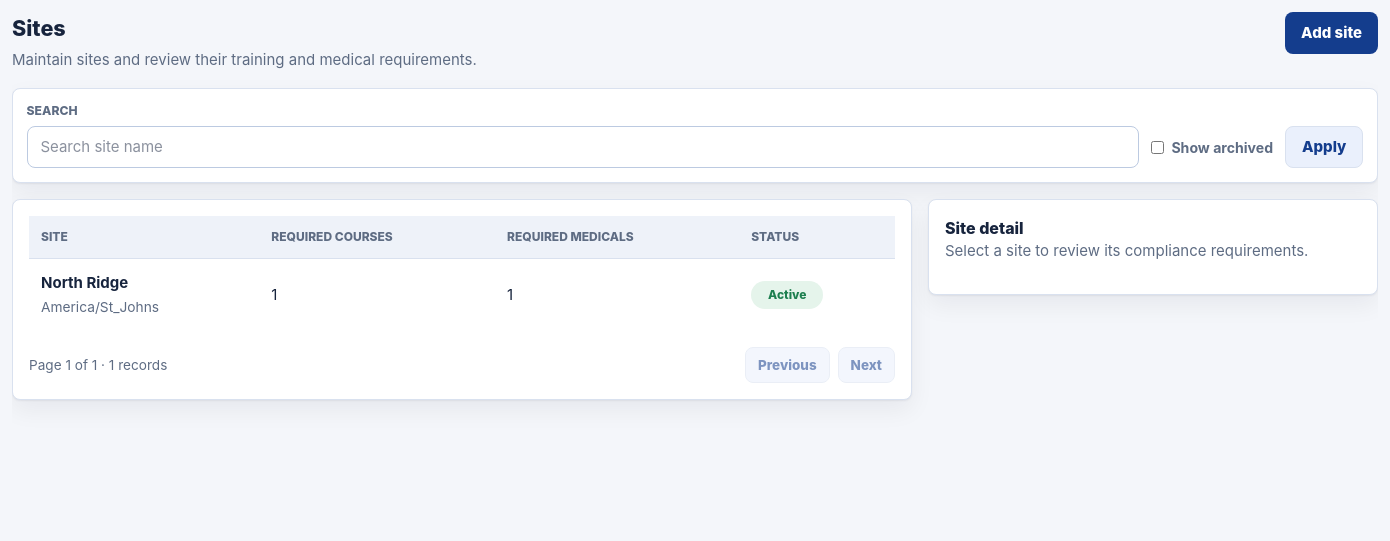
Test case: ManageSites › preserves route selection and presents course assignments as read-only
This screenshot has width=1390, height=541.
Click the row "North Ridge America/St_Johns 1 1 Active": click(85, 283) left=29, top=258, right=895, bottom=331
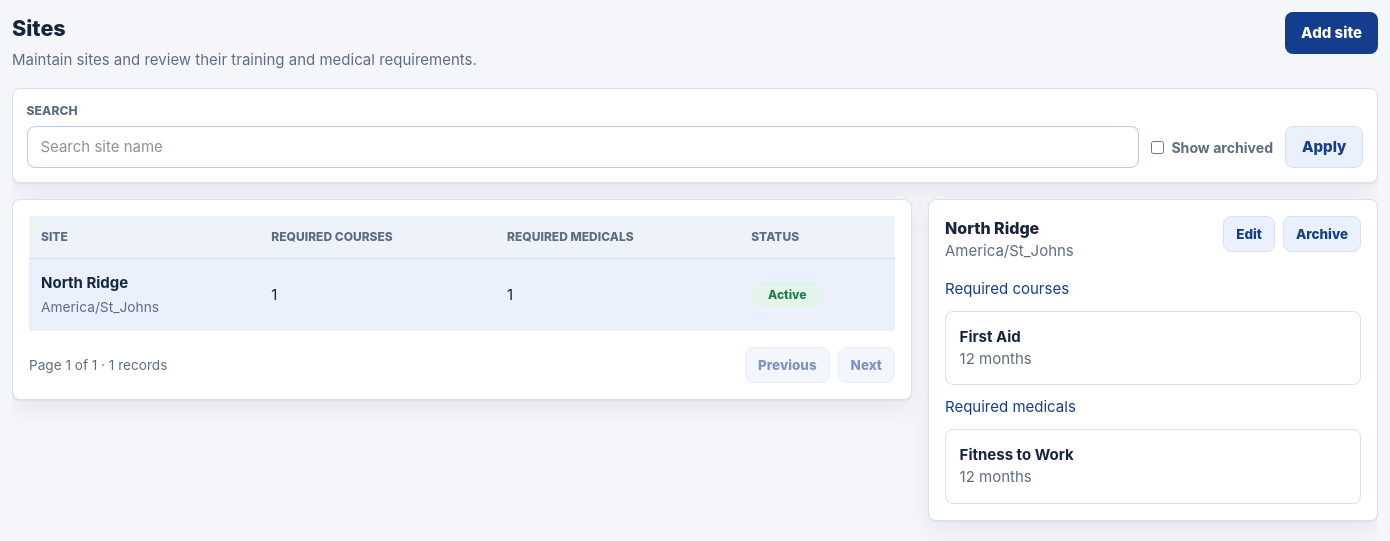
Expected: the text "Required medicals" is shown, left=495, top=216, right=739, bottom=258
Result: the text "First Aid" is shown at left=960, top=327, right=1021, bottom=346
Result: the text "Fitness to Work" is shown at left=960, top=444, right=1074, bottom=466
